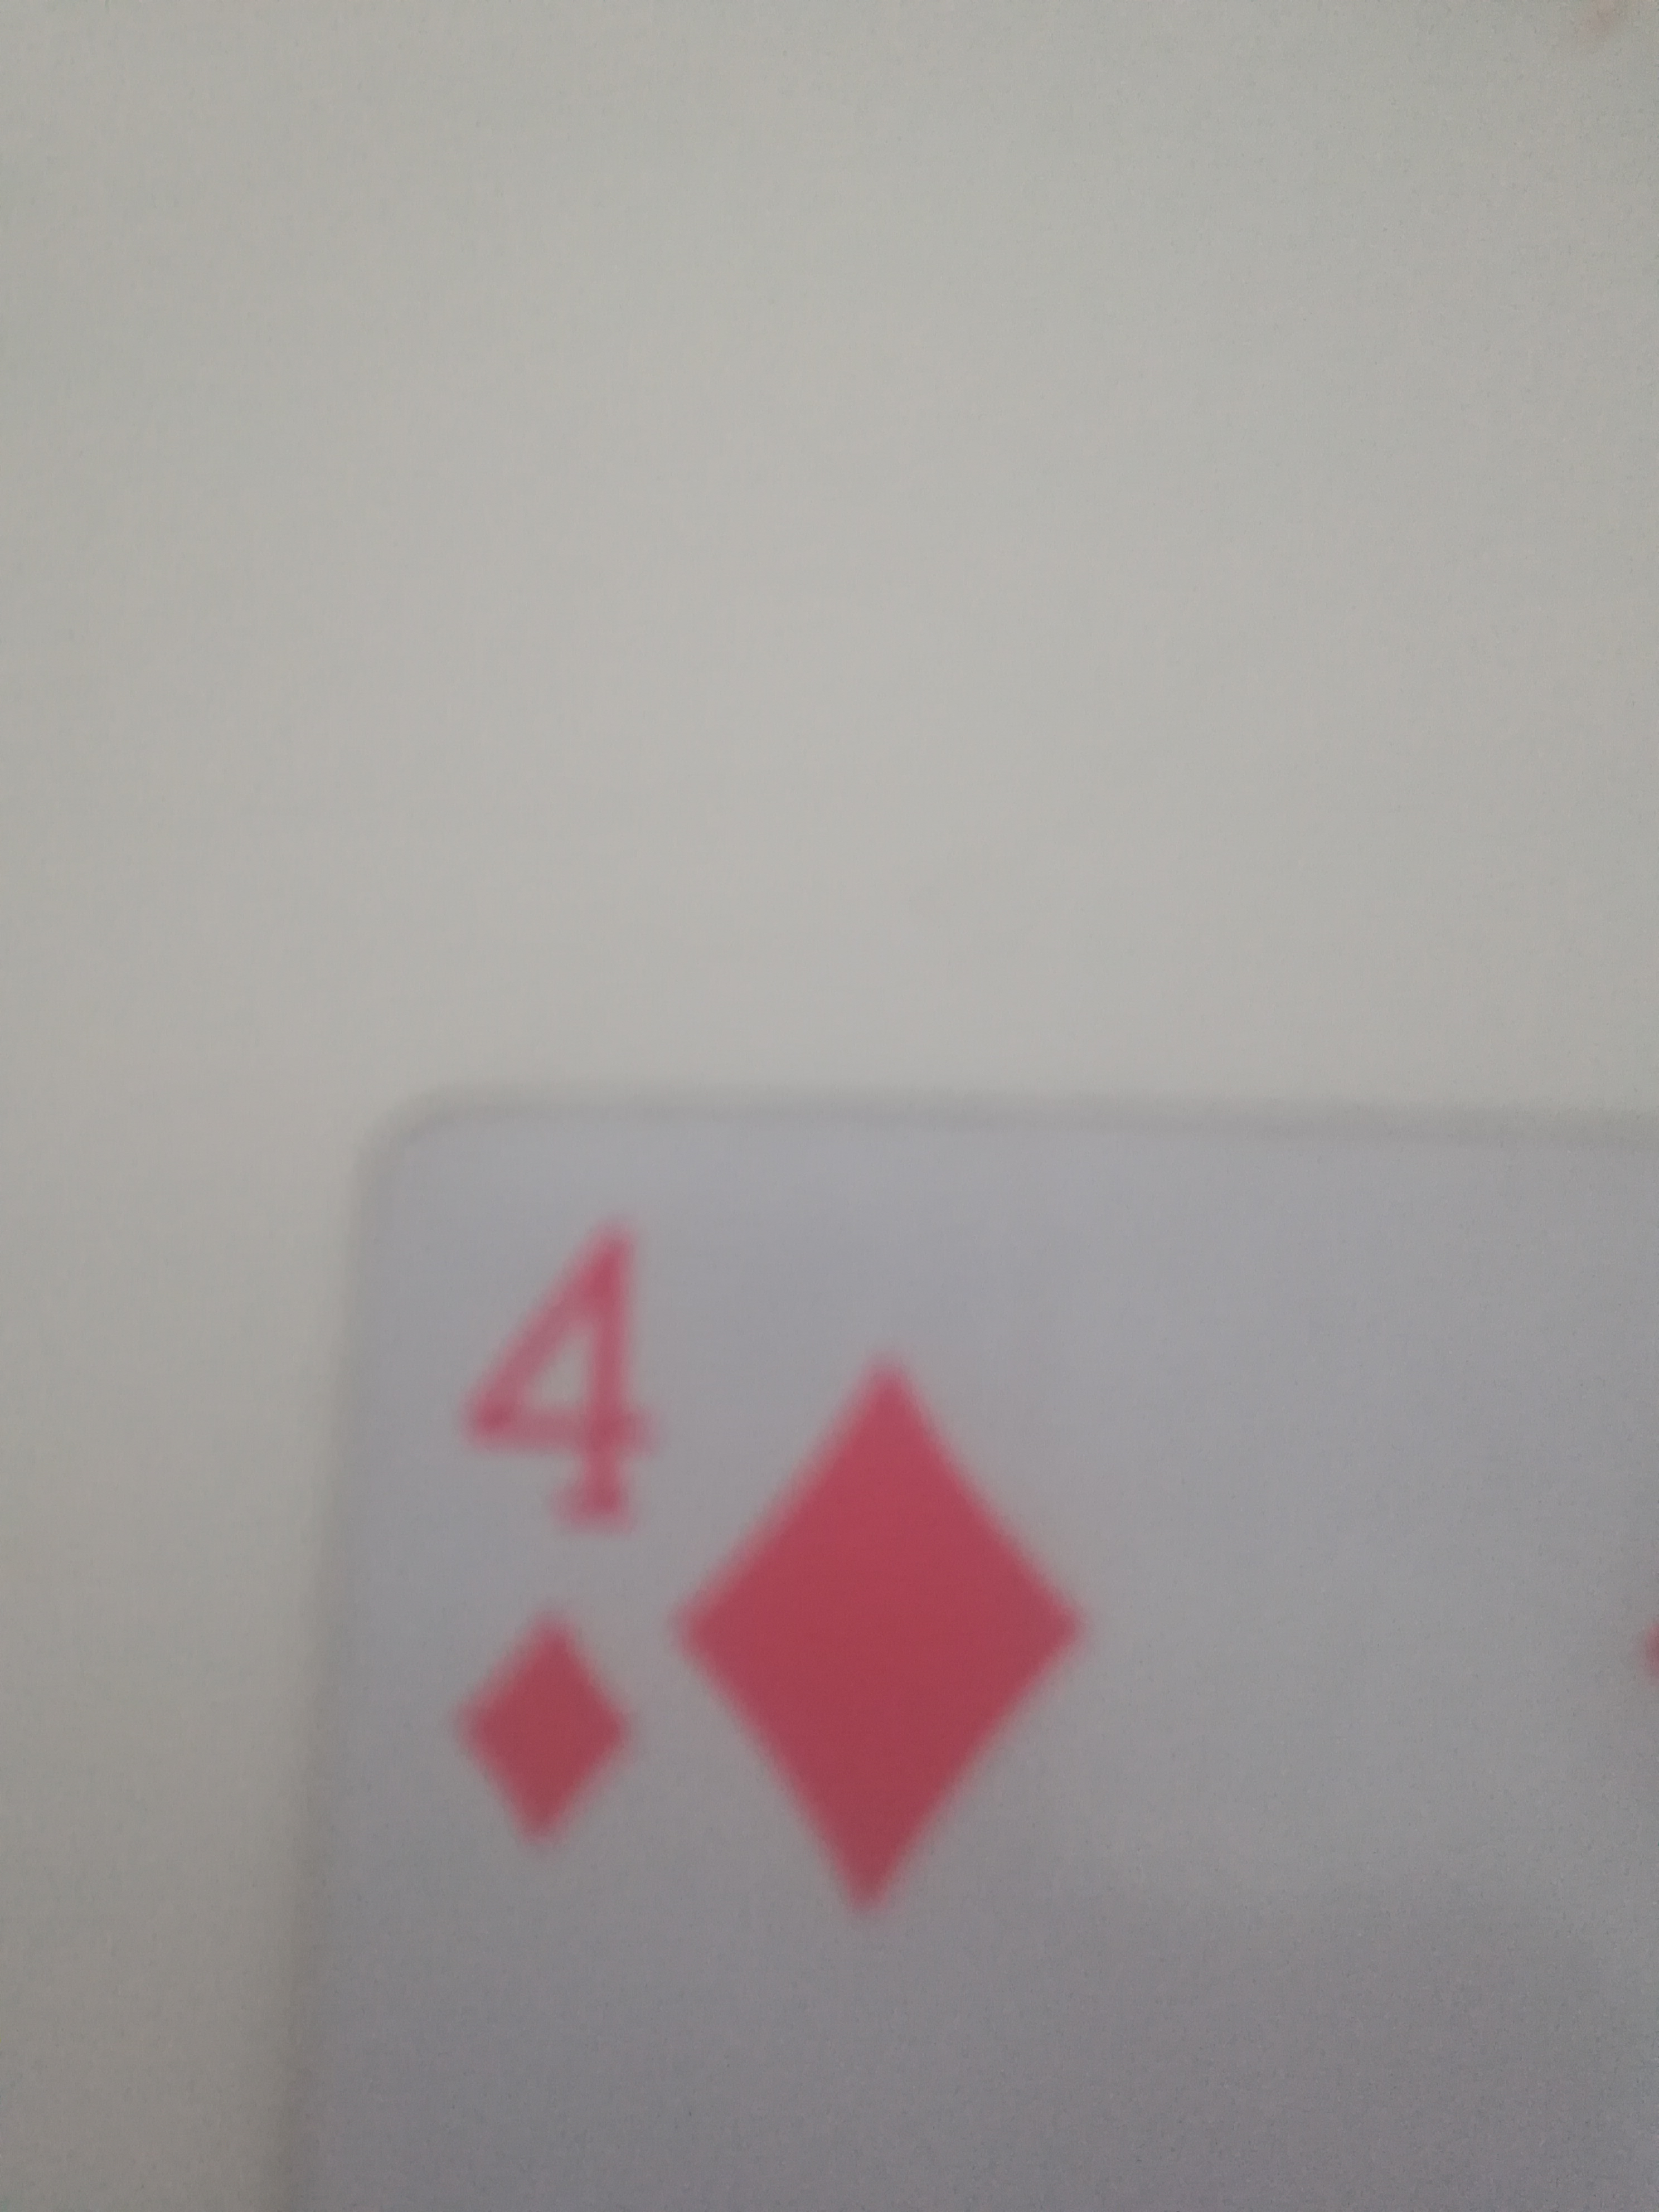4D: (333, 1064, 1657, 2212)
